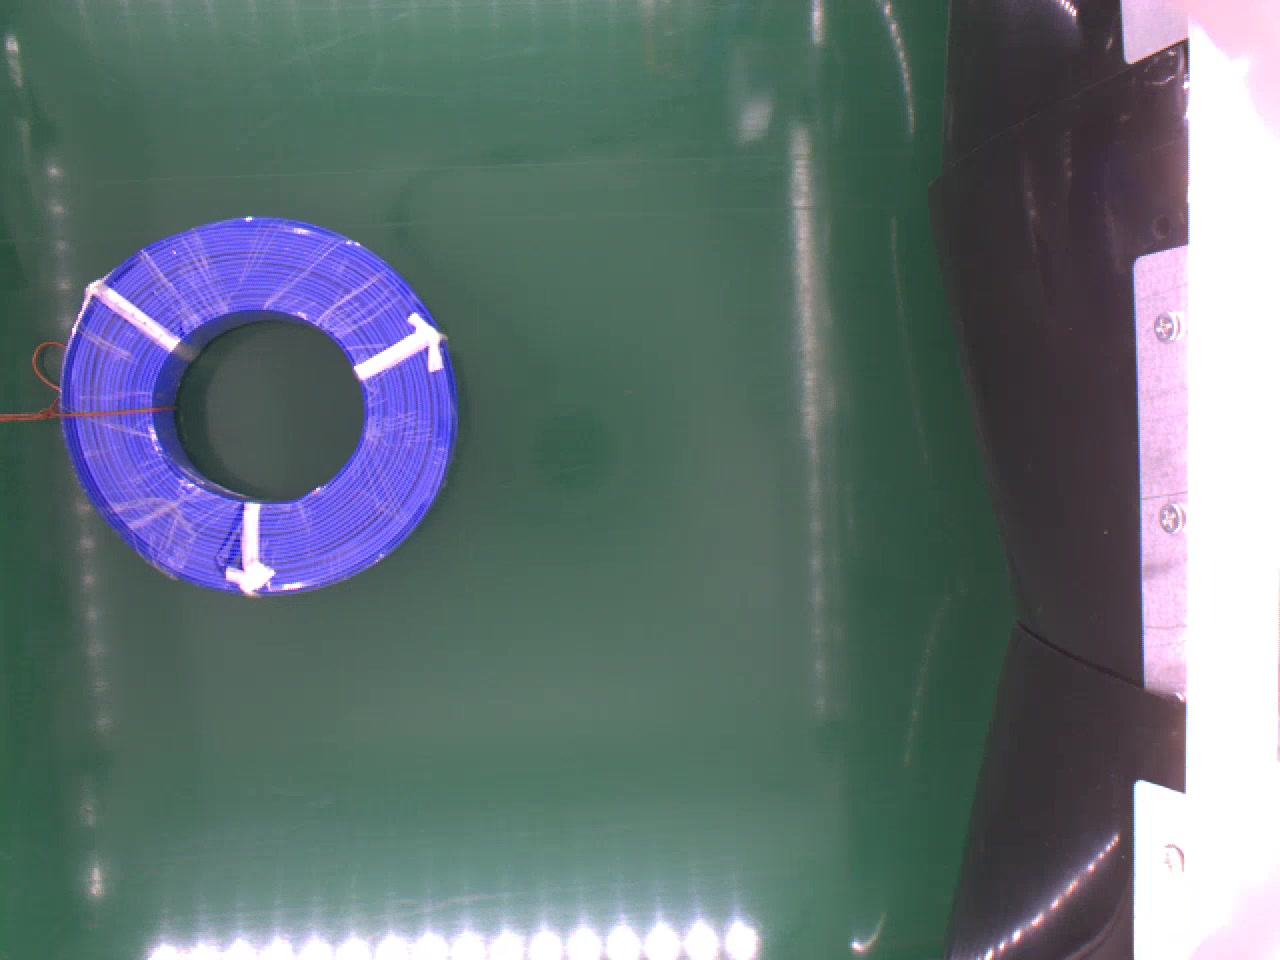blue: (63, 214, 456, 587)
